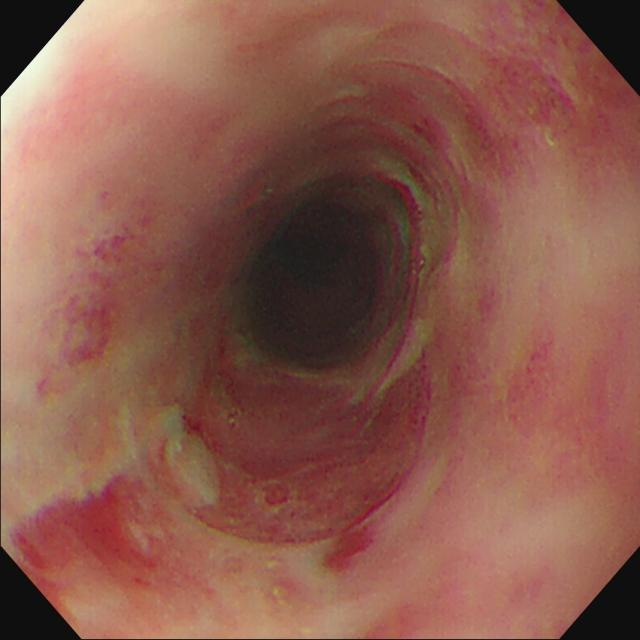A: (188, 347, 432, 549), (468, 37, 588, 188), (52, 202, 137, 377), (506, 333, 556, 427)
C: (14, 471, 165, 596), (320, 515, 375, 583)
E: (251, 208, 388, 371)
J: (384, 316, 440, 400), (167, 431, 224, 513)
